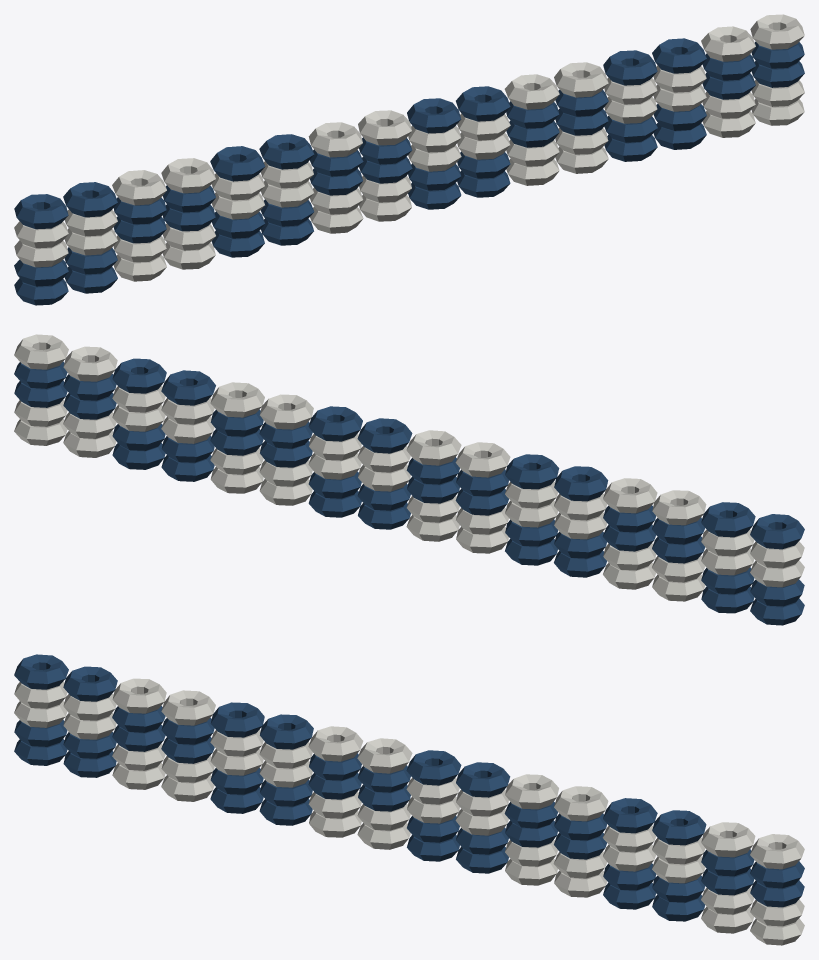
The model's file is run_tire_navy_10m.glb.
3 views of the same model, one above another, from view 1: azimuth 30°, elevation 25°; view 2: azimuth 150°, elevation 25°; view 3: azimuth 330°, elevation 25° (orthographic).
Parts seen in each view (by area): view 1: run_tire_navy_10m; view 2: run_tire_navy_10m; view 3: run_tire_navy_10m.
Part boxes in pixels (box(x1,y1,x2,y2)): run_tire_navy_10m: box(14, 14, 804, 305); run_tire_navy_10m: box(14, 334, 804, 625); run_tire_navy_10m: box(14, 654, 804, 945).
Size of the model in its own units: 9.92 by 1.14 by 0.62.
